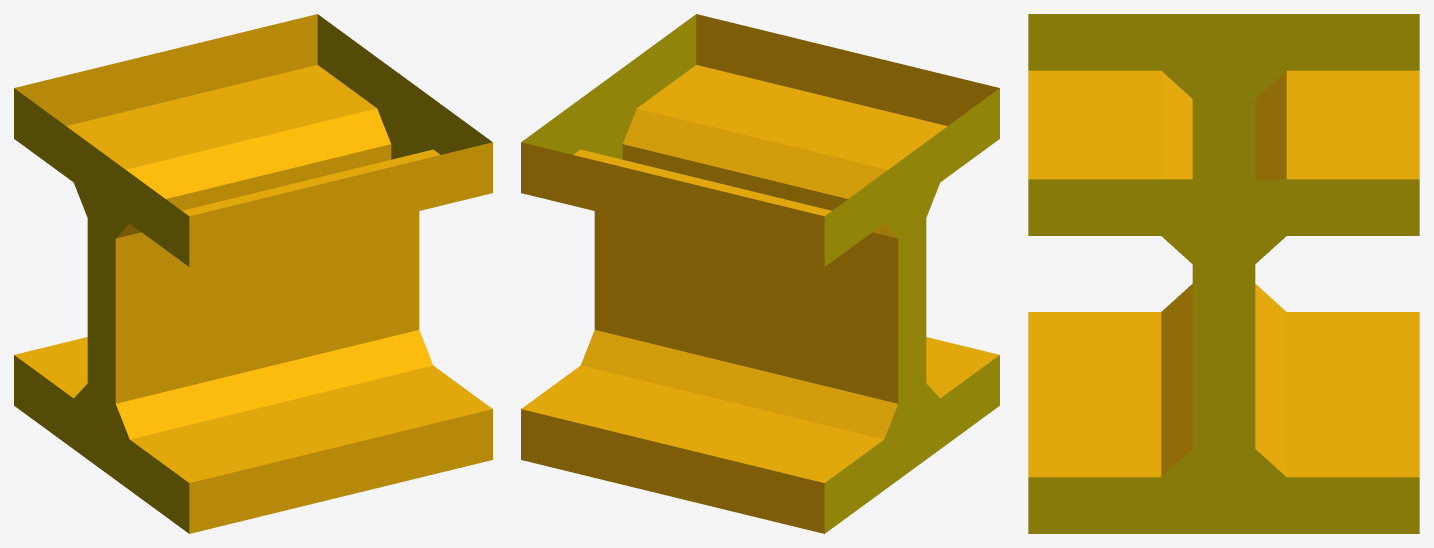
File: sp_ibeam.dae
The picture shows the model from 3 angles, left to right: view 1: azimuth 30°, elevation 25°; view 2: azimuth 150°, elevation 25°; view 3: azimuth 270°, elevation 25°; orthographic projection. The views are drawn at different scales.
Parts seen in each view (by area): view 1: ibeam; view 2: ibeam; view 3: ibeam.
Boxes of the visible parts, left/top/right/bottom form: ibeam: left=14, top=14, right=492, bottom=533; ibeam: left=521, top=14, right=999, bottom=533; ibeam: left=1028, top=14, right=1419, bottom=533.
Bounding box in the file's own units: 0.25 × 0.25 × 0.25.
